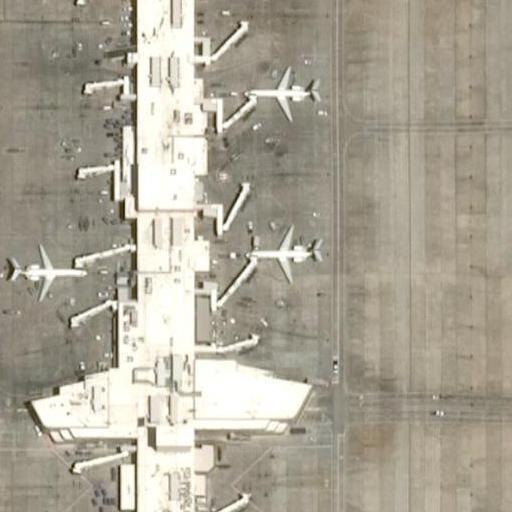Aircraft: (3, 231, 95, 306), (232, 217, 328, 283), (240, 65, 328, 124)
